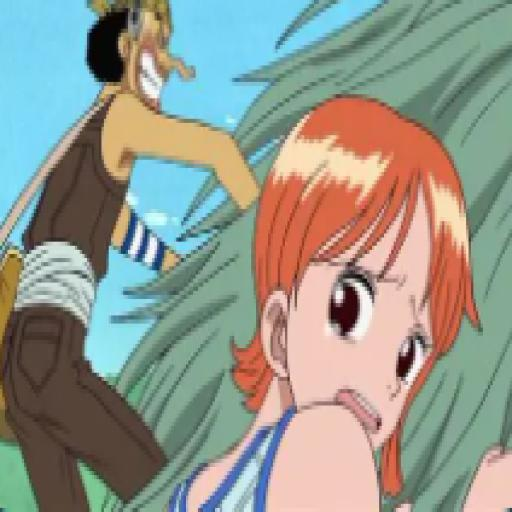Nami: (163, 97, 512, 512)
Usopp: (0, 0, 267, 512)
